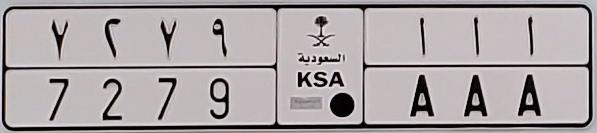2: (99, 17, 125, 121)
7: (151, 18, 180, 121), (47, 19, 73, 121)
9: (206, 18, 234, 121)
A: (514, 13, 546, 116), (408, 16, 436, 119), (462, 16, 488, 118)
